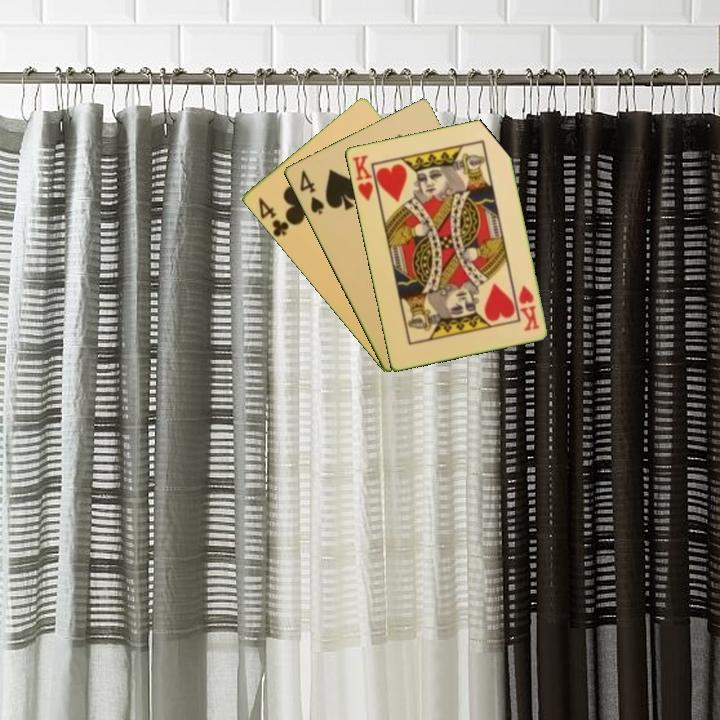4c: (254, 193, 291, 240)
4s: (296, 166, 327, 217)
Kh: (349, 151, 381, 204), (515, 281, 542, 334)
